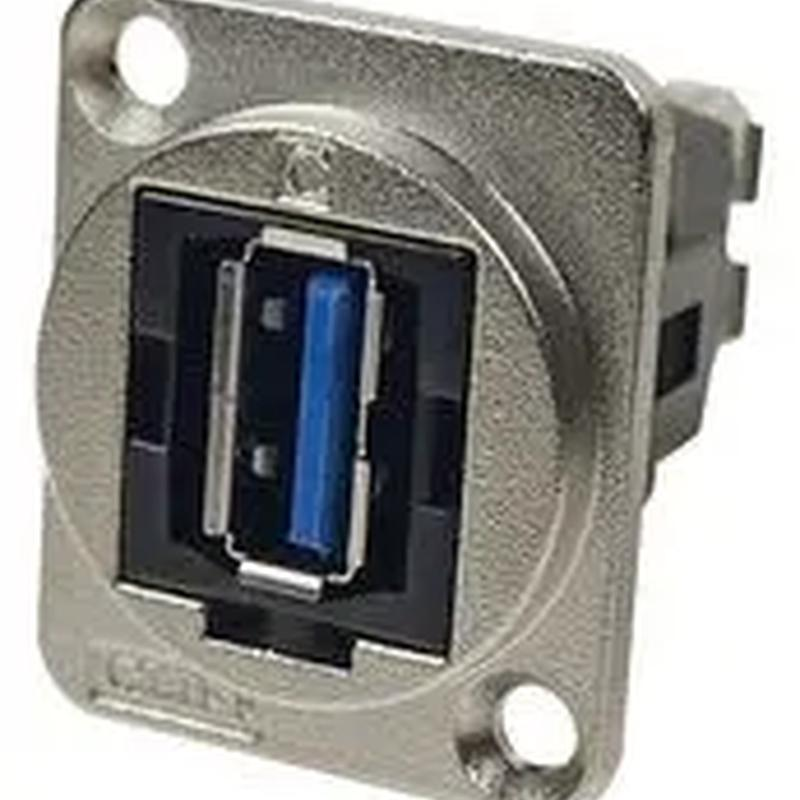USB: (93, 158, 504, 701)
